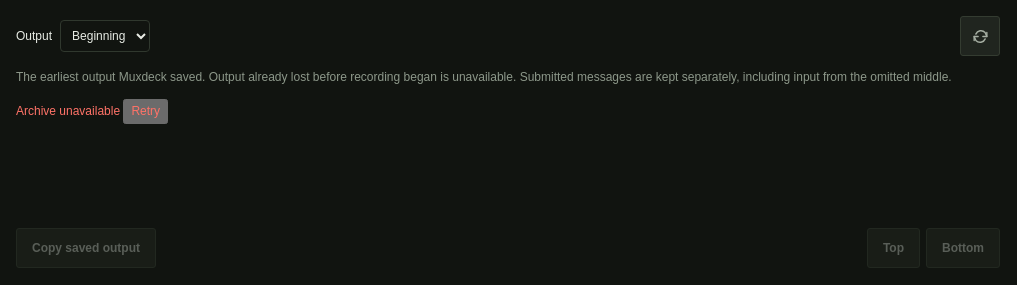
SavedScrollback › retries an unavailable archive and reports that missing output was never saved
Expected: the message shows "Archive unavailable", [16,104,120,118]
Click the button "Retry" at (146, 112), box [123,99,168,124]
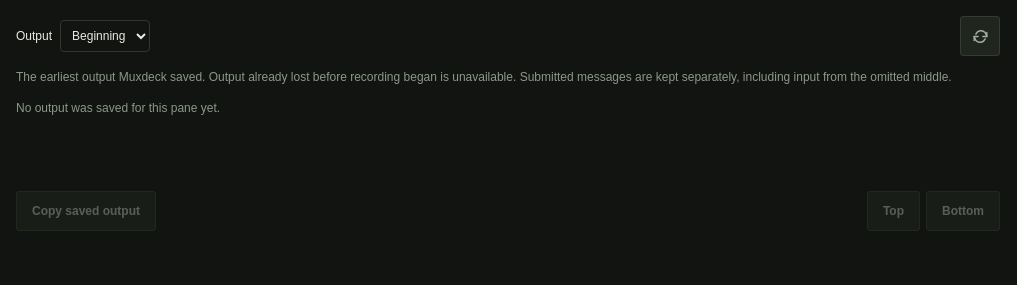
Expected: the button "Copy saved output" is disabled, [16,191,156,231]
Expected: the text "No output was saved for this pane yet." is shown, [16,101,220,115]
